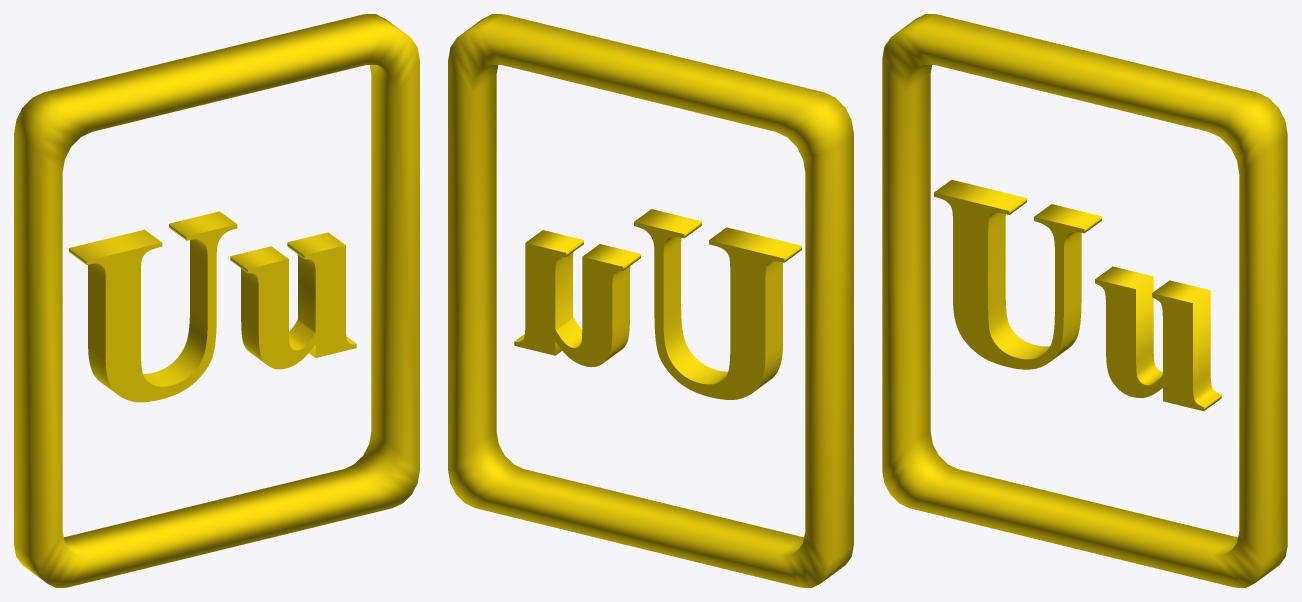
Rendered from Letter_U.gltf.
3 renders of one model, left to right at view 1: azimuth 30°, elevation 25°; view 2: azimuth 150°, elevation 25°; view 3: azimuth 330°, elevation 25°, orthographic.
Parts seen in each view (by area): view 1: Letters.022; view 2: Letters.022; view 3: Letters.022.
Part boxes in pixels (x1,y1,x2,y2): Letters.022: (14, 14, 419, 587); Letters.022: (448, 14, 853, 587); Letters.022: (882, 14, 1287, 587).
Size of the model in its own units: 1.25 by 1.49 by 0.1418.
